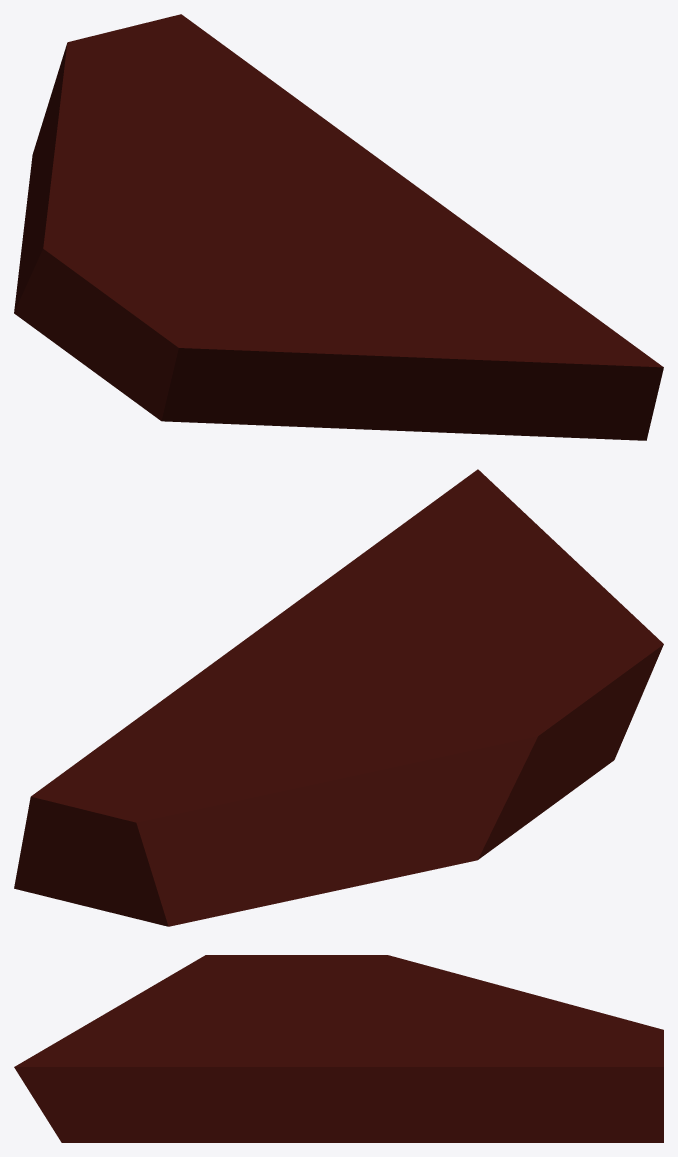
Rendered from TerracottaDebris01.FBX.
The picture shows the model from 3 angles, top to bottom: view 1: azimuth 30°, elevation 25°; view 2: azimuth 150°, elevation 25°; view 3: azimuth 270°, elevation 25°; orthographic projection. The views are drawn at different scales.
Visible parts, largest first — view 1: TerracottaDebris01; view 2: TerracottaDebris01; view 3: TerracottaDebris01.
Boxes of the visible parts, x1=… form: TerracottaDebris01: x1=14, y1=14, x2=663, y2=440; TerracottaDebris01: x1=14, y1=469, x2=663, y2=926; TerracottaDebris01: x1=14, y1=955, x2=663, y2=1142.
Bounding box in the file's own units: 17.91 × 4.97 × 41.48.
